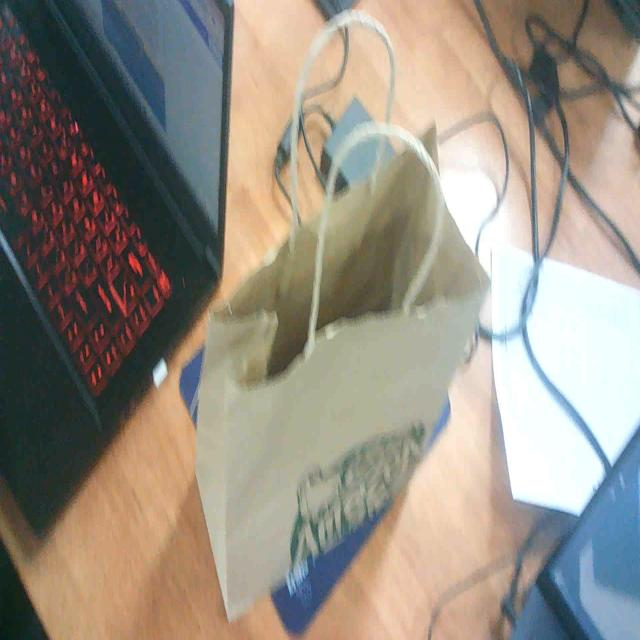bag: (185, 154, 473, 627)
